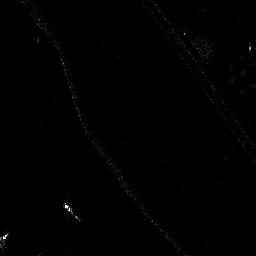ship: (61, 201, 83, 223)
